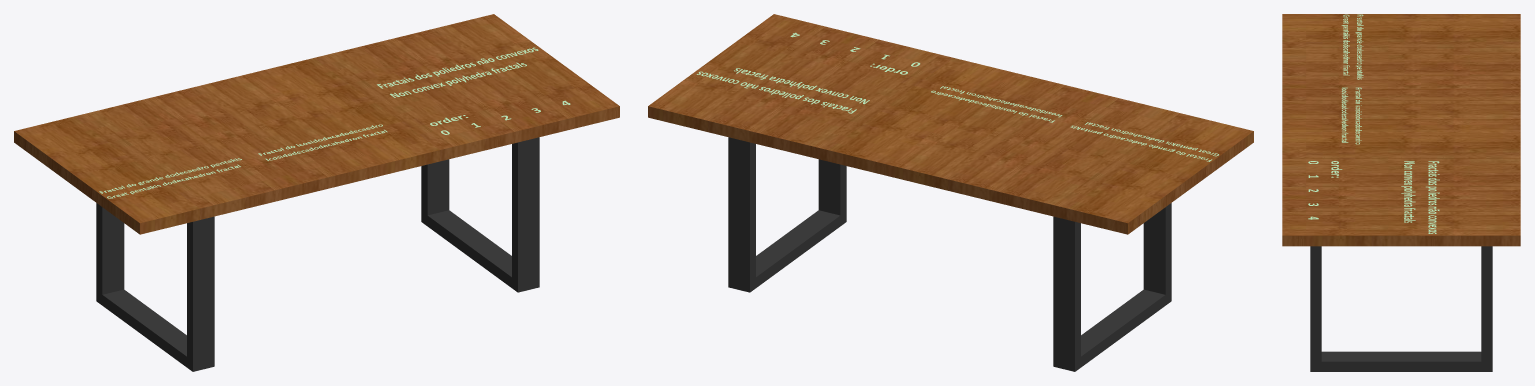
The model's file is fractal_nonconvex6a.glb.
3 views of the same model, side by side, from view 1: azimuth 30°, elevation 25°; view 2: azimuth 150°, elevation 25°; view 3: azimuth 270°, elevation 25° (orthographic). The views are drawn at different scales.
Parts seen in each view (by area): view 1: object 1, Composant#1 (×2), Fractais dos pol#1, Fractal do grand#6, Fractal do icosi; view 2: object 1, Composant#1 (×2), Fractais dos pol#1, Fractal do grand#6, Fractal do icosi; view 3: object 1, Composant#1, Fractais dos pol#1, Fractal do grand#6, Fractal do icosi.
Boxes of the visible parts, bbox=[...] form: object 1: bbox=[14, 14, 619, 234]; Composant#1 (×2): bbox=[96, 137, 539, 371]; Fractais dos pol#1: bbox=[377, 47, 538, 97]; Fractal do grand#6: bbox=[99, 158, 241, 198]; Fractal do icosi: bbox=[258, 124, 387, 160]; object 1: bbox=[648, 14, 1253, 234]; Composant#1 (×2): bbox=[728, 137, 1171, 371]; Fractais dos pol#1: bbox=[696, 68, 869, 113]; Fractal do grand#6: bbox=[1070, 122, 1218, 161]; Fractal do icosi: bbox=[931, 86, 1062, 122]; object 1: bbox=[1282, 14, 1520, 246]; Composant#1: bbox=[1310, 246, 1492, 371]; Fractais dos pol#1: bbox=[1401, 161, 1439, 233]; Fractal do grand#6: bbox=[1341, 14, 1363, 79]; Fractal do icosi: bbox=[1341, 87, 1361, 144].
Bounding box in the file's own units: 2.2 × 0.7711 × 1.
Materials: 3 (1 with a texture image).
